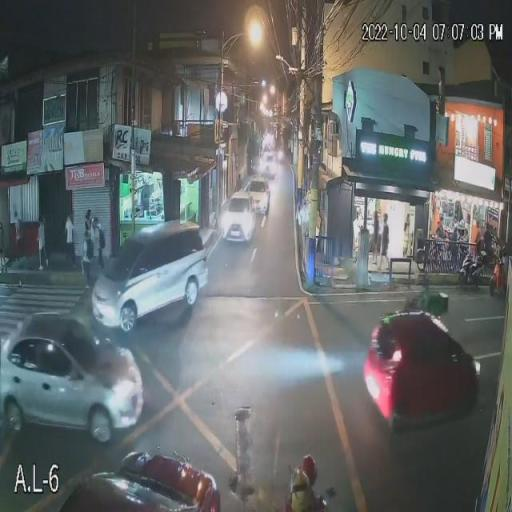helmet: (287, 467, 313, 512), (300, 452, 320, 481)
